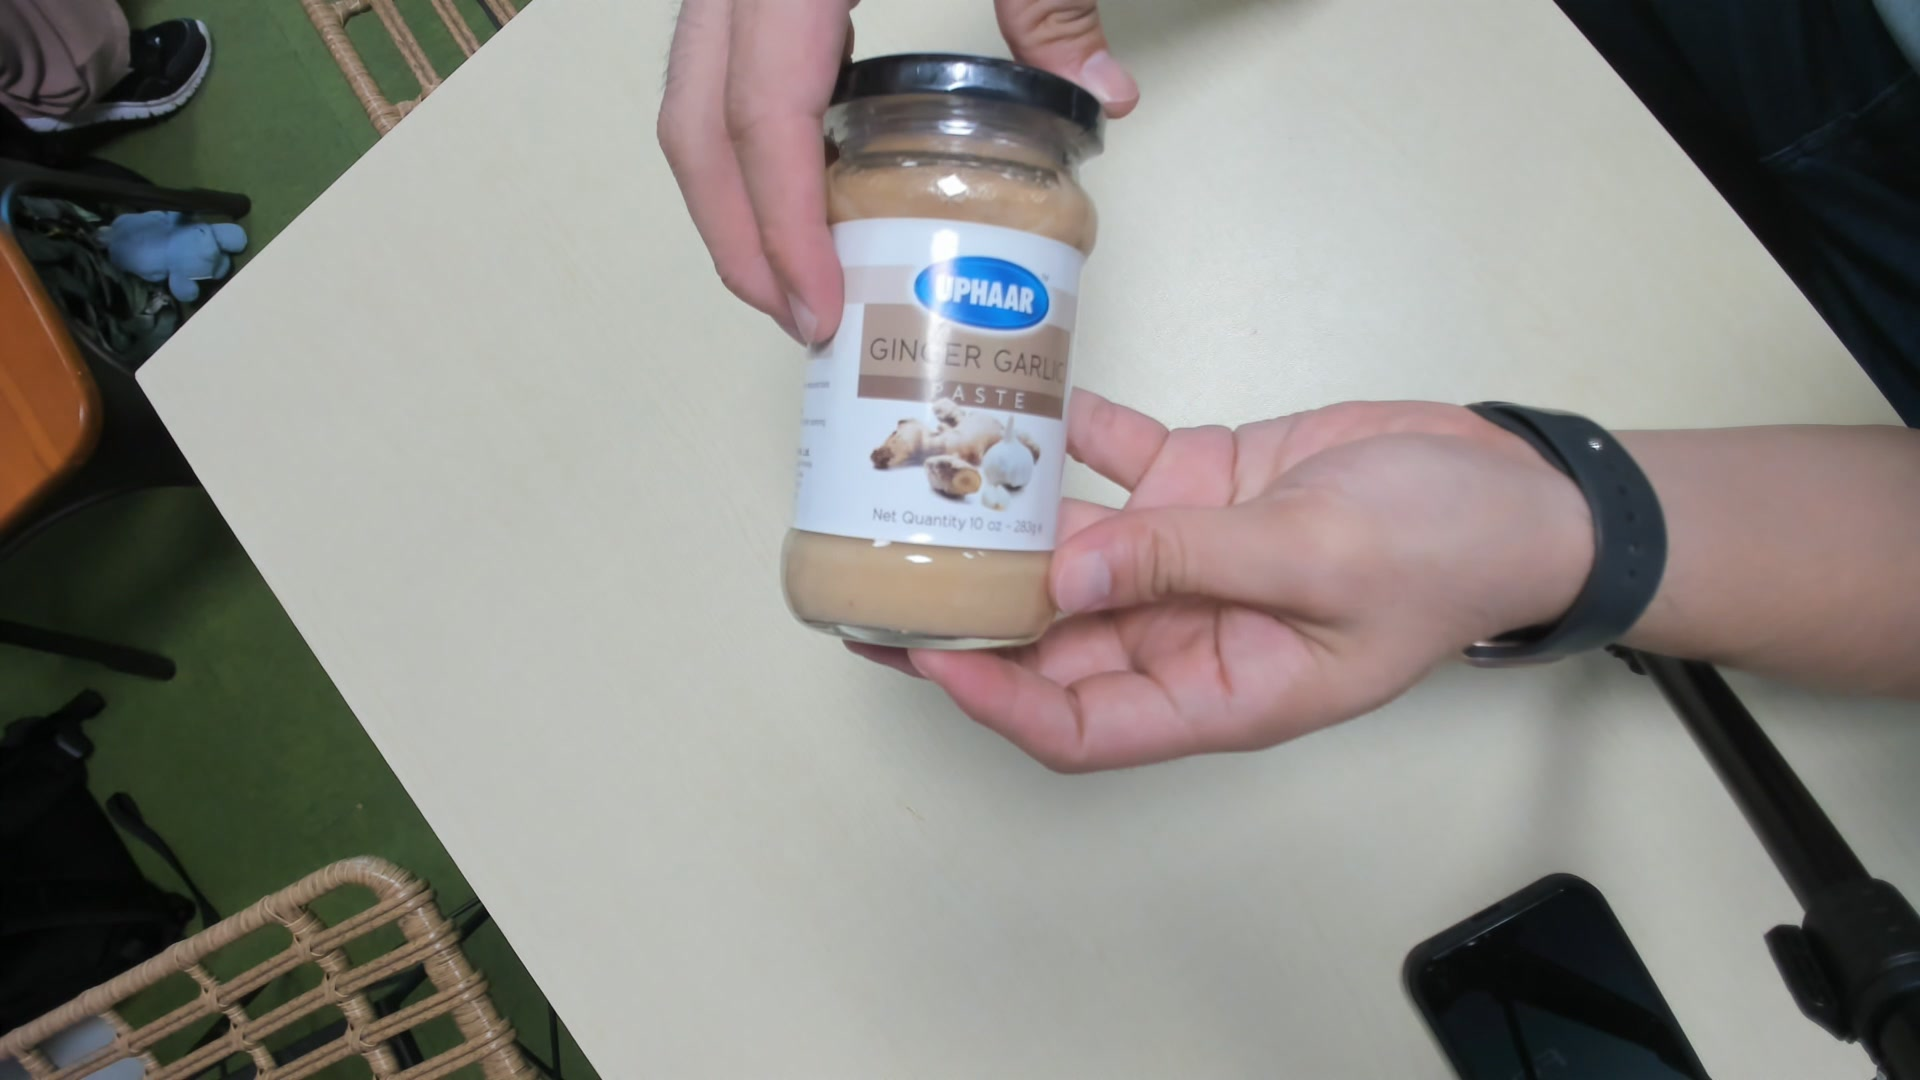OtherSauceDressing_200-299g_NonHalal_NonHealthy: (781, 55, 1102, 663)
